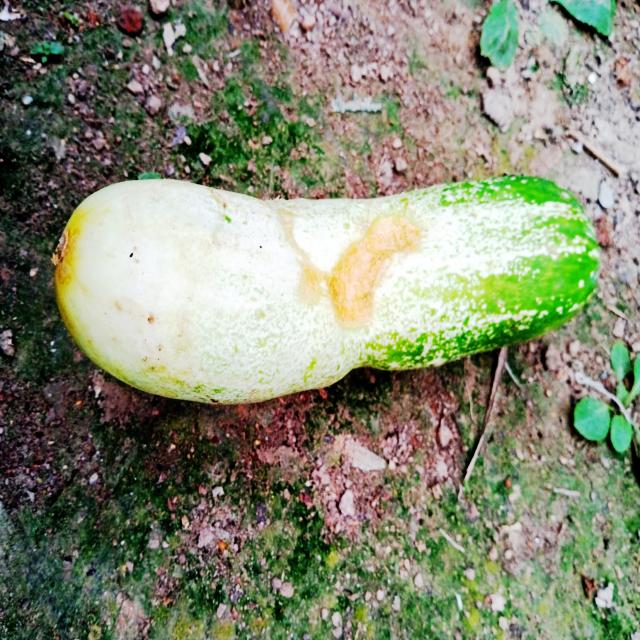Belly-Rot: (275, 203, 440, 337)
